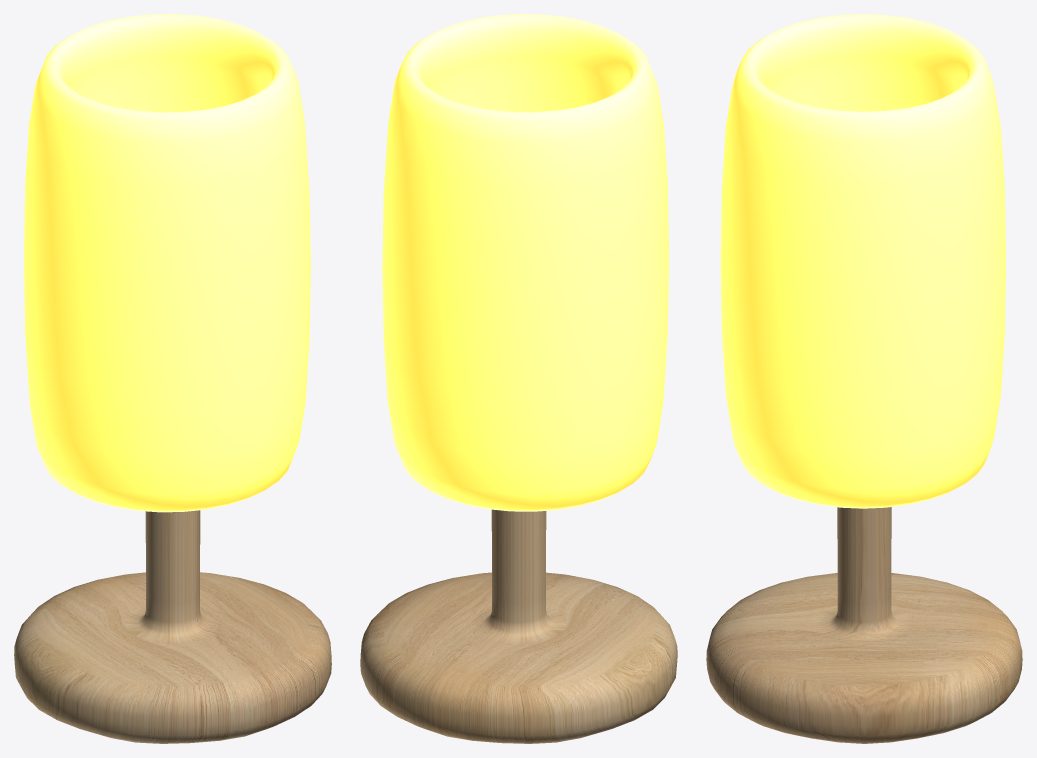
File: lamp.glb
3 views of the same model, side by side, from view 1: azimuth 30°, elevation 25°; view 2: azimuth 150°, elevation 25°; view 3: azimuth 270°, elevation 25° (orthographic).
Visible parts, largest first — view 1: Cylinder.010, lamp; view 2: Cylinder.010, lamp; view 3: Cylinder.010, lamp.
Part boxes in pixels (x1,y1,x2,y2): Cylinder.010: [24, 14, 310, 512]; lamp: [14, 510, 331, 743]; Cylinder.010: [382, 14, 668, 511]; lamp: [360, 509, 677, 743]; Cylinder.010: [720, 14, 1005, 508]; lamp: [706, 507, 1022, 743].
Size of the model in its own units: 0.3034 by 0.6658 by 0.3034.
Materials: 2 (1 with a texture image).
